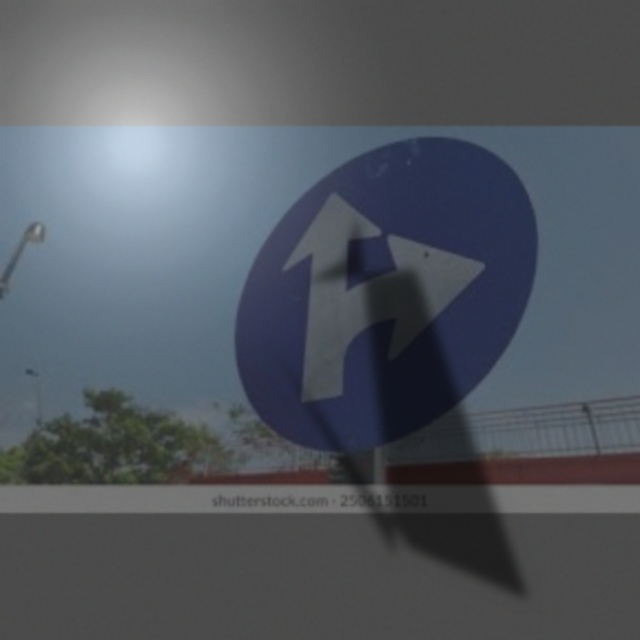Compulsory_Ahead_or_Turn_Right: (241, 149, 528, 458)
